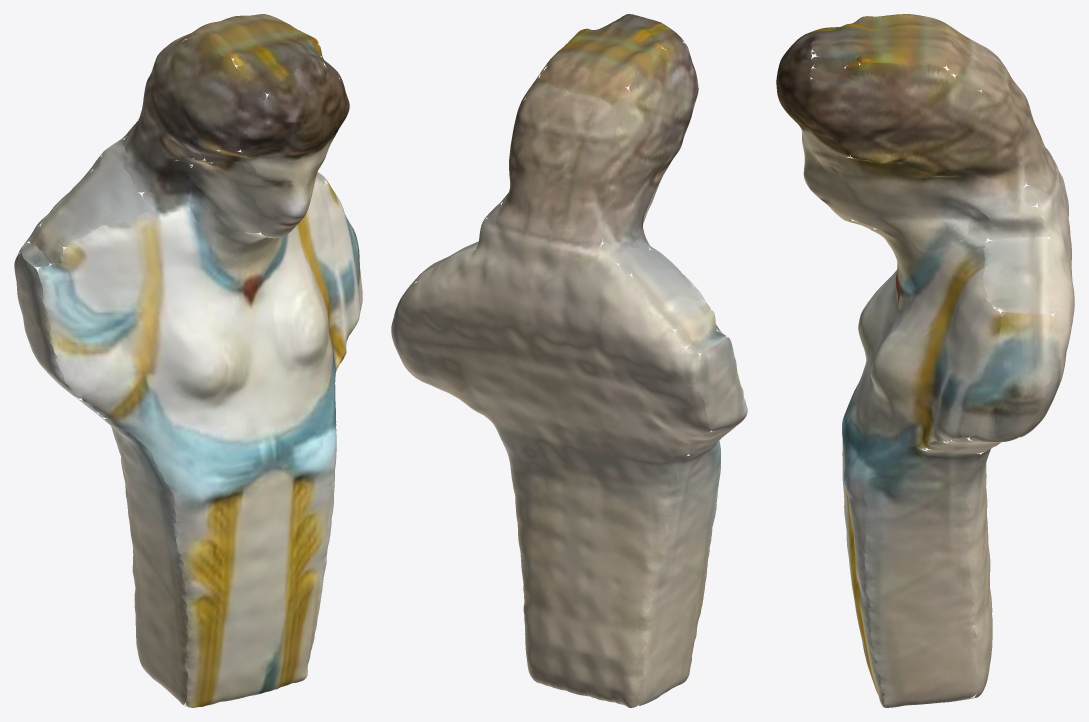
Rendered from basilisk.glb.
3 renders of one model, left to right at view 1: azimuth 30°, elevation 25°; view 2: azimuth 150°, elevation 25°; view 3: azimuth 270°, elevation 25°, orthographic. The views are drawn at different scales.
Parts seen in each view (by area): view 1: basilisk_Figurehead; view 2: basilisk_Figurehead; view 3: basilisk_Figurehead.
Part boxes in pixels (x1,y1,x2,y2): basilisk_Figurehead: (14, 14, 362, 707); basilisk_Figurehead: (391, 14, 747, 707); basilisk_Figurehead: (776, 14, 1074, 707).
Bounding box in the file's own units: 1.34 × 2.5 × 1.02.
Materials: 1 (1 with a texture image).
